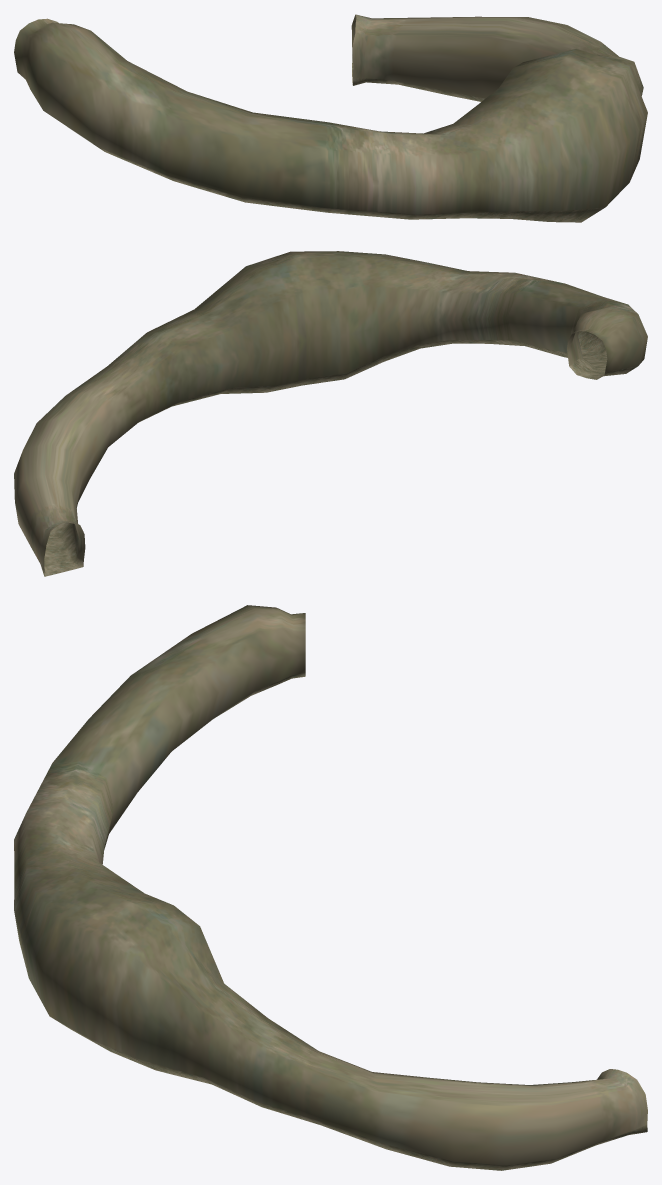
Rendered from EKH_JAIL_PS_JA_CAVERN_CAVE03938.fbx.
3 views of the same model, one above another, from view 1: azimuth 30°, elevation 25°; view 2: azimuth 150°, elevation 25°; view 3: azimuth 270°, elevation 25° (orthographic). The views are drawn at different scales.
Parts seen in each view (by area): view 1: EKH_JAIL_PS_JA_CAVERN_CAVE03938; view 2: EKH_JAIL_PS_JA_CAVERN_CAVE03938; view 3: EKH_JAIL_PS_JA_CAVERN_CAVE03938.
Part boxes in pixels (x1,y1,x2,y2): EKH_JAIL_PS_JA_CAVERN_CAVE03938: (14, 14, 647, 222); EKH_JAIL_PS_JA_CAVERN_CAVE03938: (14, 251, 647, 576); EKH_JAIL_PS_JA_CAVERN_CAVE03938: (14, 605, 647, 1170).
Bounding box in the file's own units: 277049 × 123452 × 242399.
1 material, 1 textured.
